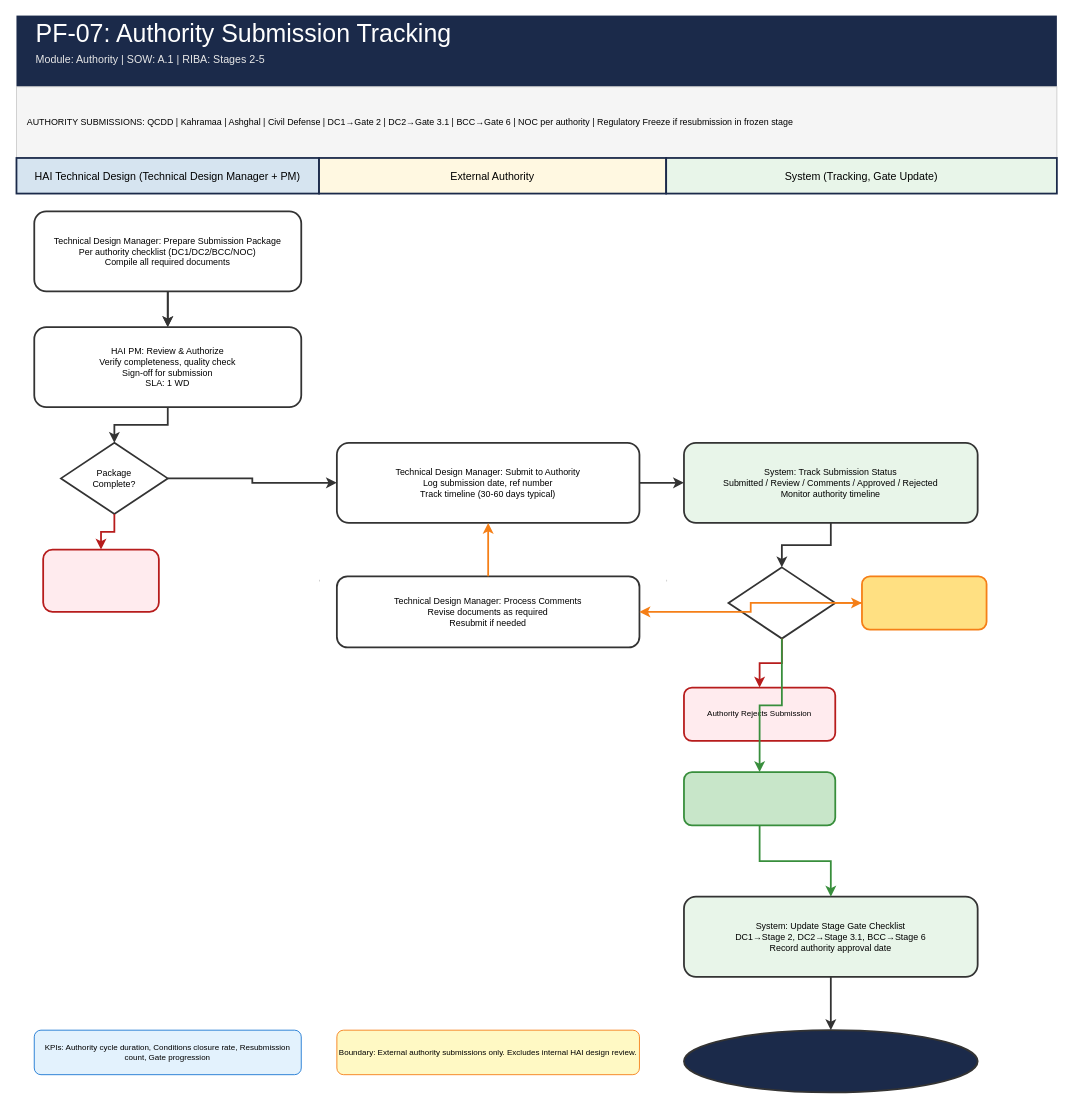
Image size: 1072x1108. Some labels were removed from this diagram. The centre of each missing label's shape, as x and y in pixels:
"Authority Approves Submission" goes at [759,798].
"Authority Decision?" goes at [781,602].
"Authority Issues Comments" goes at [924,602].
"END: Authority Approval Recorded" goes at [830,1061].
"Return to Technical Design Mgr Complete missing items" goes at [100,580].
